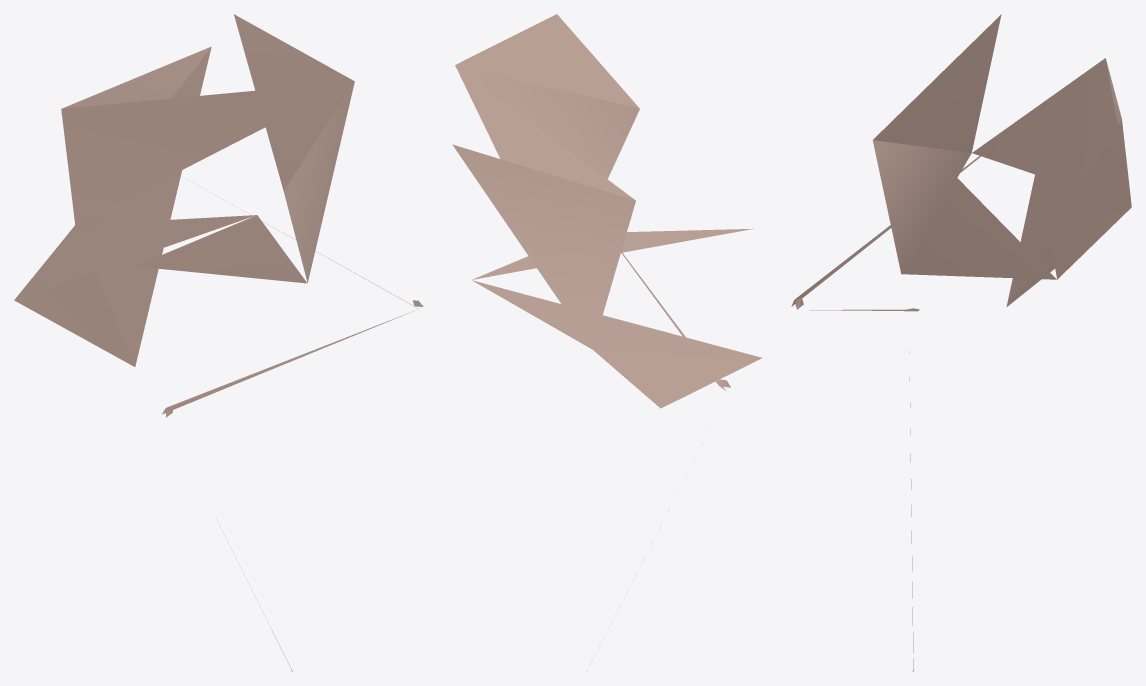
File: backup.gltf
The picture shows the model from 3 angles, left to right: view 1: azimuth 30°, elevation 25°; view 2: azimuth 150°, elevation 25°; view 3: azimuth 270°, elevation 25°; orthographic projection. The views are drawn at different scales.
Parts seen in each view (by area): view 1: node-0; view 2: node-0; view 3: node-0.
Boxes of the visible parts, bbox=[...] form: node-0: bbox=[14, 14, 423, 671]; node-0: bbox=[452, 14, 761, 671]; node-0: bbox=[791, 14, 1131, 671].
Size of the model in its own units: 262 by 510 by 242.
